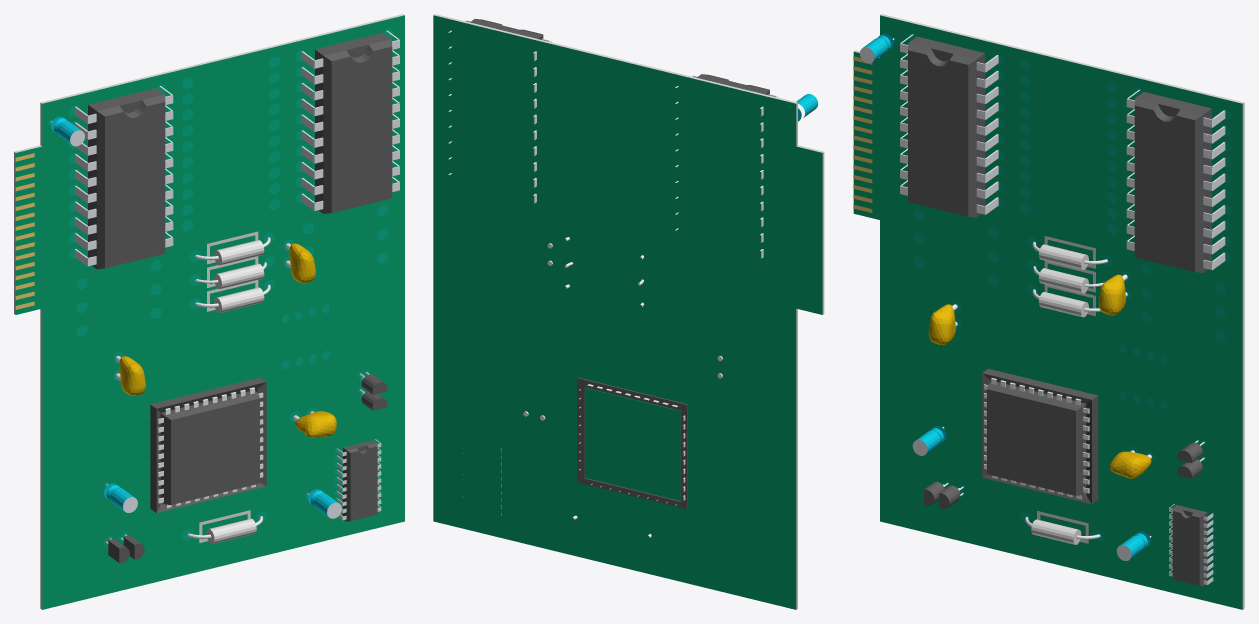
File: CIRCUITB.glb
The picture shows the model from 3 angles, left to right: view 1: azimuth 30°, elevation 25°; view 2: azimuth 150°, elevation 25°; view 3: azimuth 330°, elevation 25°; orthographic projection.
Parts seen in each view (by area): view 1: _0; view 2: _0; view 3: _0.
Part boxes in pixels (x1=…): _0: x1=14, y1=14, x2=404, y2=609; _0: x1=433, y1=14, x2=824, y2=609; _0: x1=853, y1=14, x2=1244, y2=609.
Bounding box in the file's own units: 6.44 × 8 × 0.8873.
